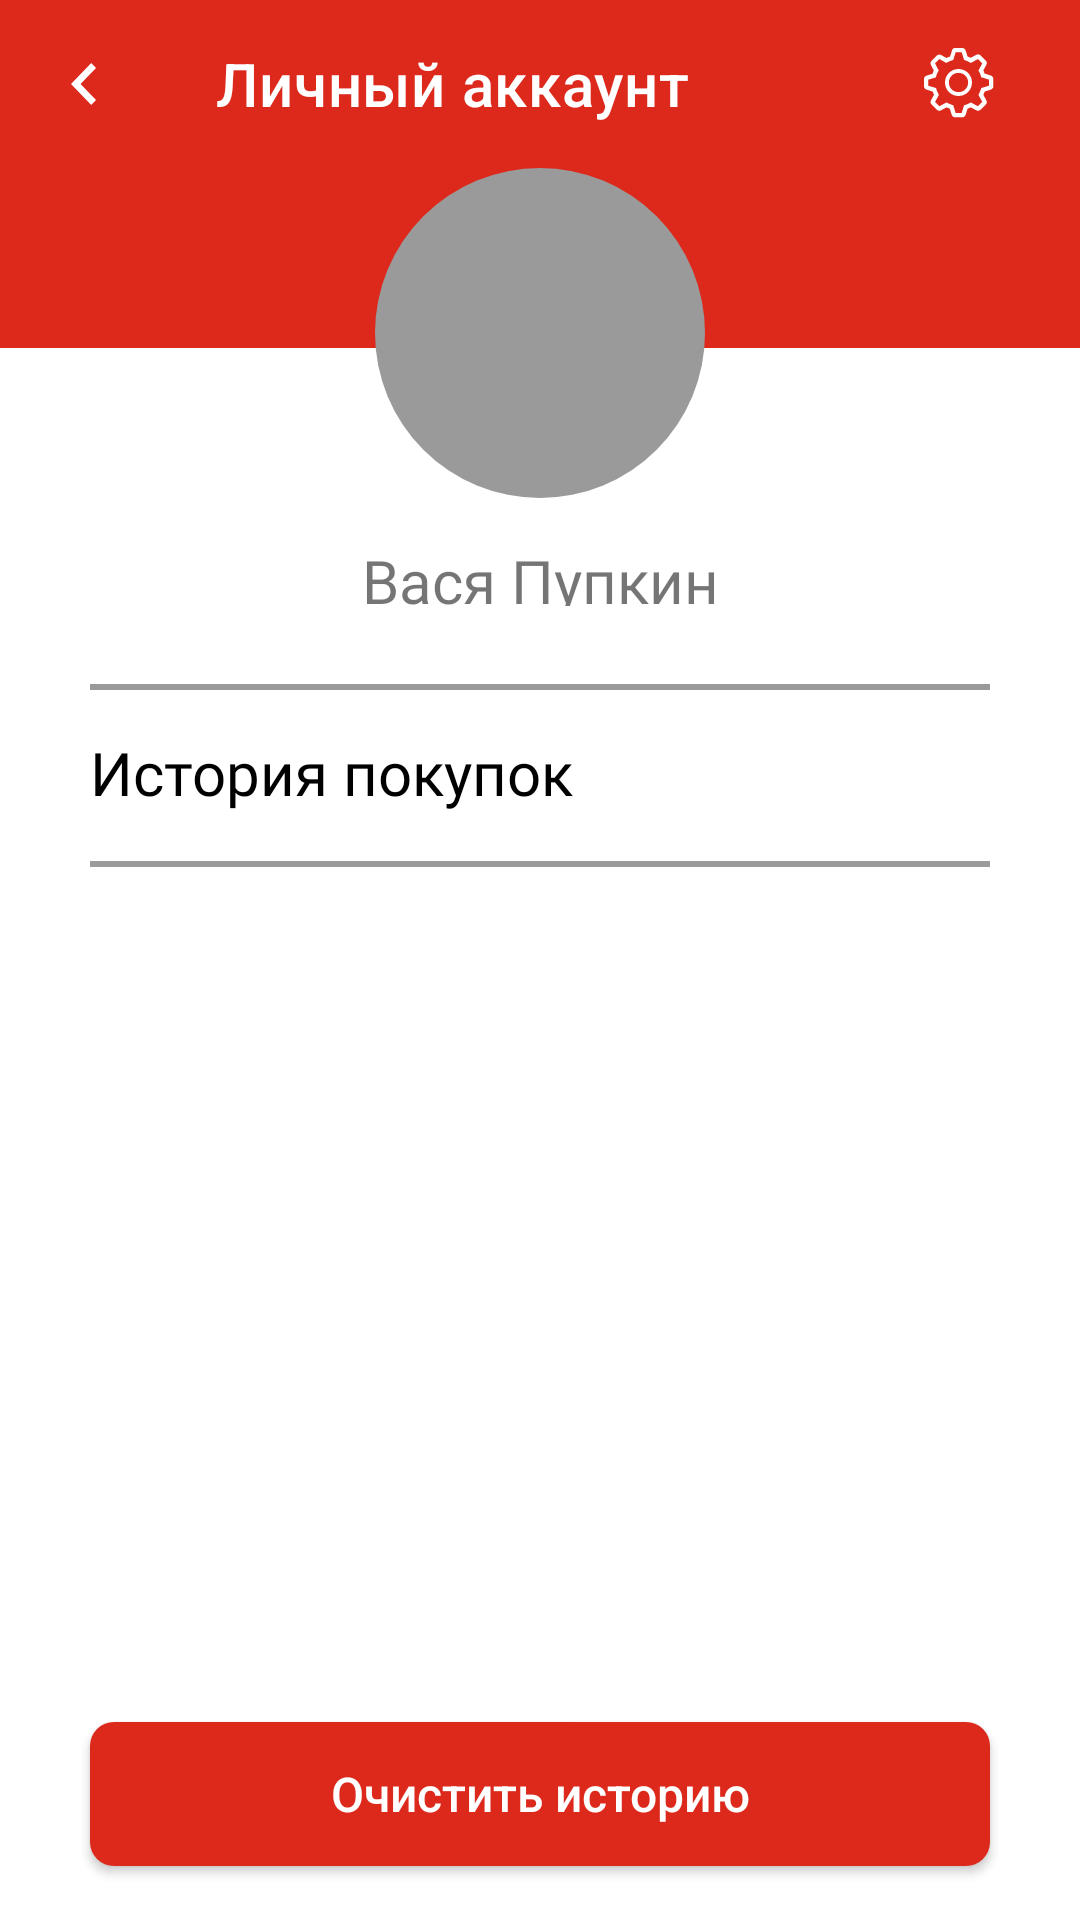

Screen size 1080×1920. Icon name, then its center in pixels as (x,y):
settingsfull: (959,83)
